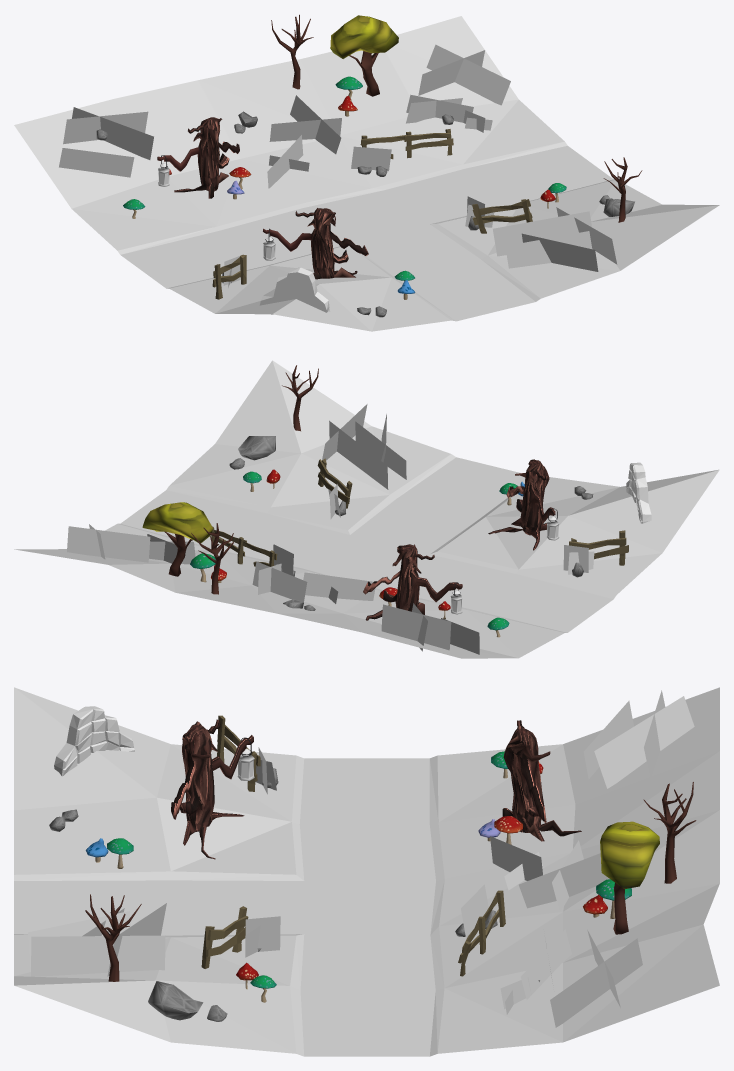
File: environment3.fbx
3 views of the same model, one above another, from view 1: azimuth 30°, elevation 25°; view 2: azimuth 150°, elevation 25°; view 3: azimuth 270°, elevation 25° (orthographic). The views are drawn at different scales.
Parts seen in each view (by area): view 1: Plane.024, Cylinder.026, Cylinder.023, Sphere.004, Plane.109, Plane.122, Cube.049, Plane.103, Plane.105, Plane.120, Plane.112, Plane.119 (+14 smaller); view 2: Plane.024, Cylinder.023, Cylinder.026, Plane.108, Sphere.004, Plane.105, Plane.104, Plane.122, Plane.120, Plane.101, Cube.049, LowPolyFence_02.003 (+9 smaller); view 3: Plane.024, Plane.121, Cylinder.026, Cylinder.023, Plane.112, Sphere.004, Cube.049, Plane.109, Plane.102, Plane.111, Plane.006, Plane.115 (+13 smaller).
Part boxes in pixels (x1,y1,x2,y2): Plane.024: [14, 16, 719, 331]; Cylinder.026: [263, 208, 368, 279]; Cylinder.023: [157, 117, 239, 198]; Sphere.004: [330, 15, 398, 58]; Plane.109: [426, 44, 510, 105]; Plane.122: [493, 211, 591, 256]; Cube.049: [259, 267, 330, 314]; Plane.103: [59, 148, 134, 177]; Plane.105: [63, 111, 148, 144]; Plane.120: [505, 231, 592, 268]; Plane.112: [72, 107, 153, 159]; Plane.119: [521, 233, 598, 271]; Plane.024: [14, 360, 719, 658]; Cylinder.023: [363, 544, 462, 620]; Cylinder.026: [488, 459, 555, 550]; Plane.108: [67, 526, 150, 562]; Sphere.004: [142, 502, 213, 542]; Plane.105: [381, 604, 451, 650]; Plane.104: [303, 572, 375, 600]; Plane.122: [329, 420, 388, 489]; Plane.120: [355, 421, 406, 479]; Plane.101: [252, 561, 307, 602]; Cube.049: [626, 462, 651, 523]; LowPolyFence_02.003: [569, 530, 628, 565]; Plane.024: [14, 687, 719, 1056]; Plane.121: [31, 935, 165, 976]; Cylinder.026: [171, 719, 253, 859]; Cylinder.023: [502, 720, 581, 841]; Plane.112: [594, 696, 694, 788]; Sphere.004: [600, 821, 659, 889]; Cube.049: [54, 706, 134, 776]; Plane.109: [550, 938, 642, 1027]; Plane.102: [519, 853, 609, 908]; Plane.111: [521, 929, 571, 999]; Plane.006: [643, 782, 696, 883]; Plane.115: [148, 981, 203, 1020].
Size of the model in its own units: 2250 by 544 by 2250.
